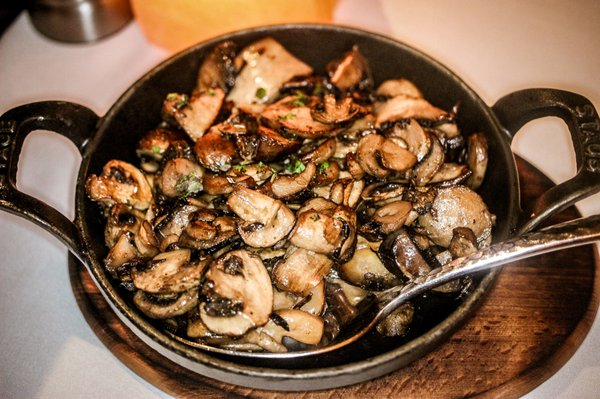salad: (371, 87, 600, 352), (0, 102, 216, 378), (356, 203, 600, 346)
sushi: (41, 27, 597, 376)
